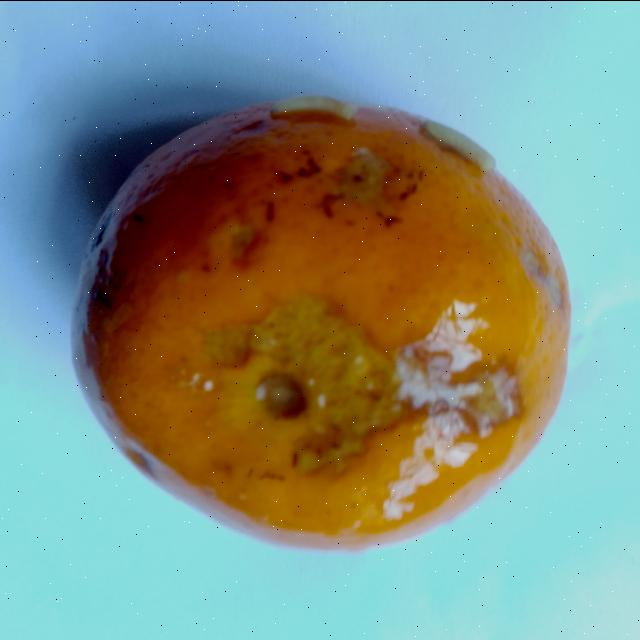Rotten: (66, 100, 572, 554)
